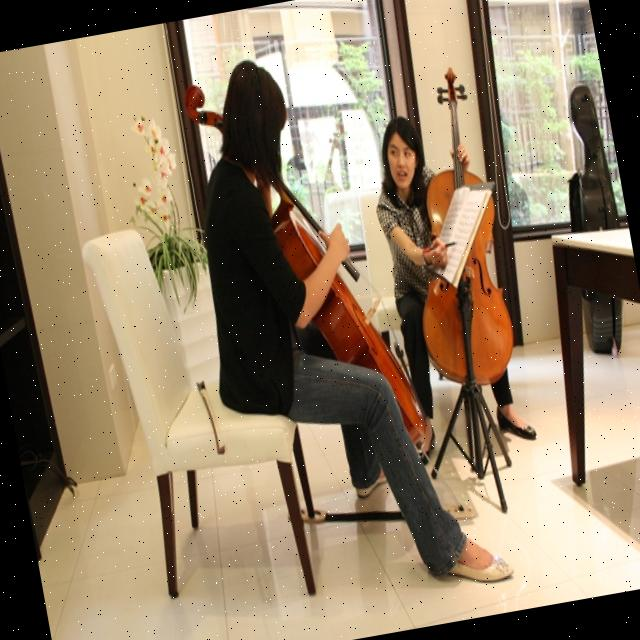cello: (178, 54, 432, 484), (376, 62, 525, 399)
